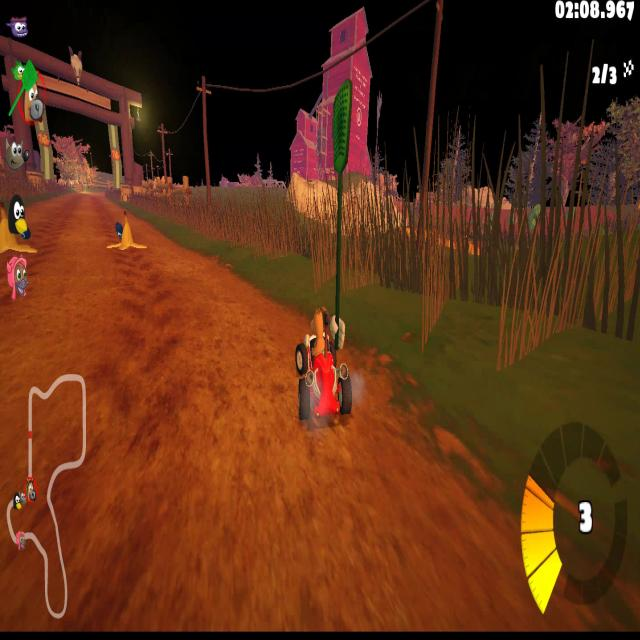player_kart: (290, 306, 354, 426)
track: (105, 254, 293, 640), (293, 482, 526, 639), (74, 212, 104, 632), (47, 195, 73, 635), (21, 205, 46, 632), (293, 430, 490, 478), (1, 244, 22, 632), (361, 354, 398, 434), (145, 223, 169, 253), (84, 185, 106, 205), (73, 184, 84, 213), (110, 200, 117, 209)
